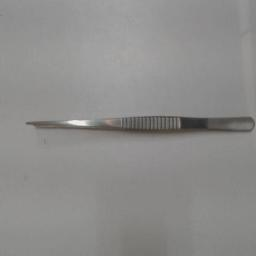DeBakey Dissector: (6, 104, 254, 144)
